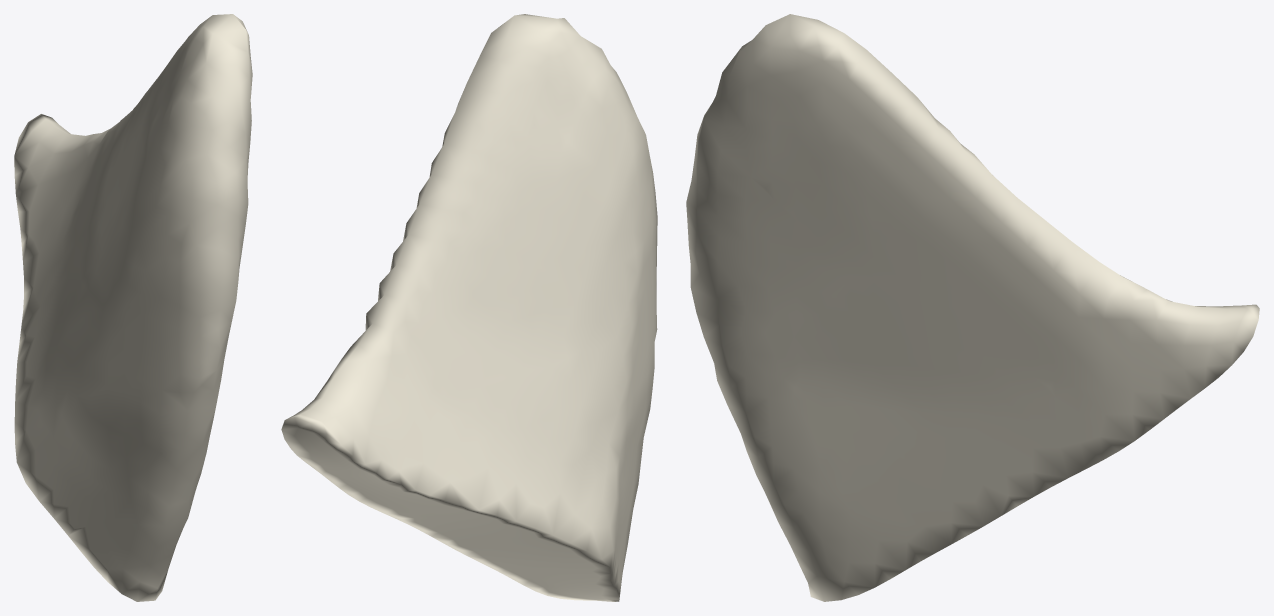
The model's file is fma52835_mm908.glb.
3 renders of one model, left to right at view 1: azimuth 30°, elevation 25°; view 2: azimuth 150°, elevation 25°; view 3: azimuth 270°, elevation 25°, orthographic. The views are drawn at different scales.
Visible parts, largest first — view 1: FMA52835_MM908; view 2: FMA52835_MM908; view 3: FMA52835_MM908.
Boxes of the visible parts, bbox=[...] form: FMA52835_MM908: bbox=[14, 14, 252, 601]; FMA52835_MM908: bbox=[281, 14, 657, 601]; FMA52835_MM908: bbox=[686, 14, 1259, 601].
Size of the model in its own units: 0.00675 by 0.02 by 0.0169.
